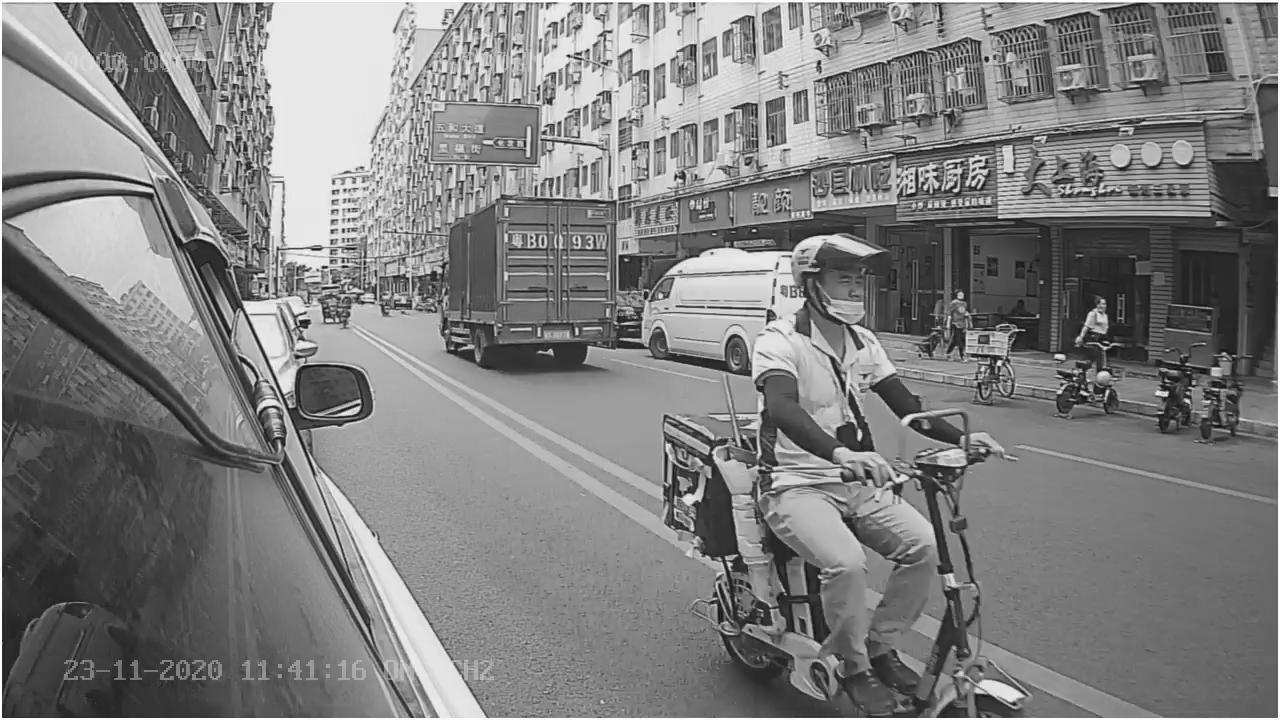person: (746, 226, 934, 412)
